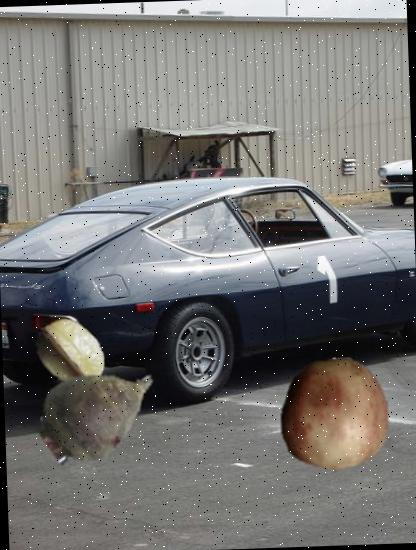Apple: (275, 356, 395, 476)
Beetroot: (30, 339, 170, 480)
Carambula: (32, 314, 112, 394)
